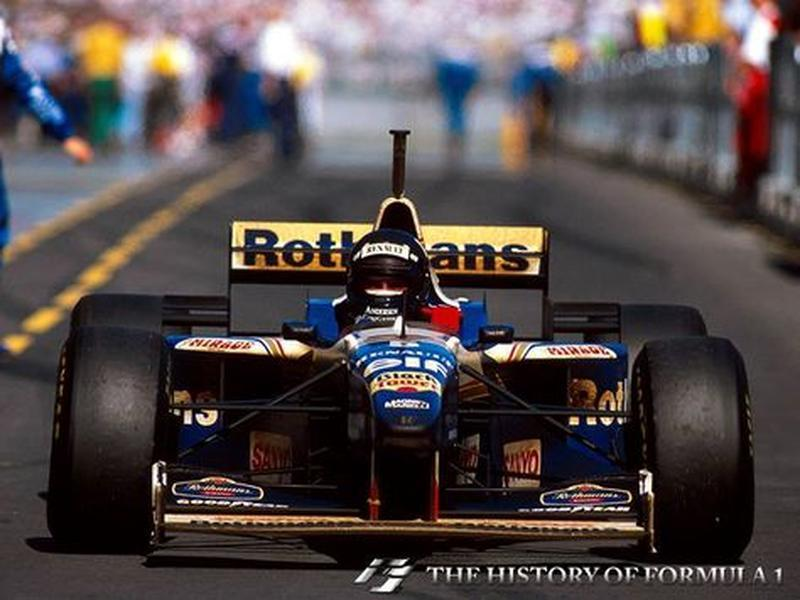f1: (50, 149, 787, 563)
